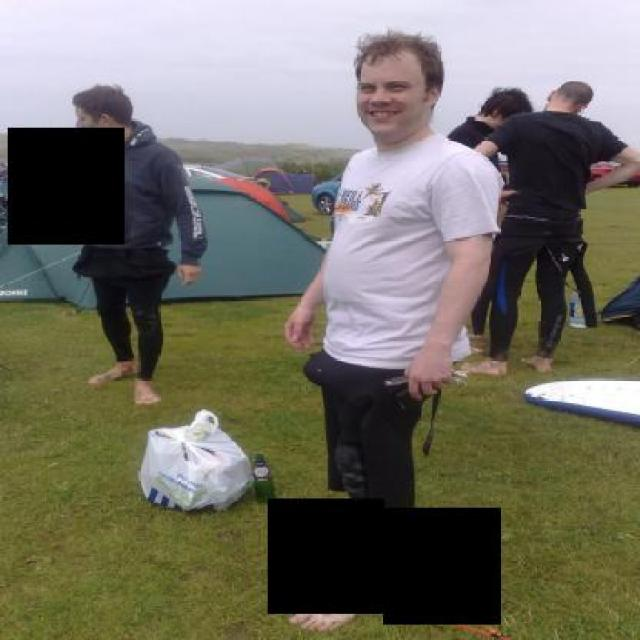plastic bag: (136, 406, 256, 509)
